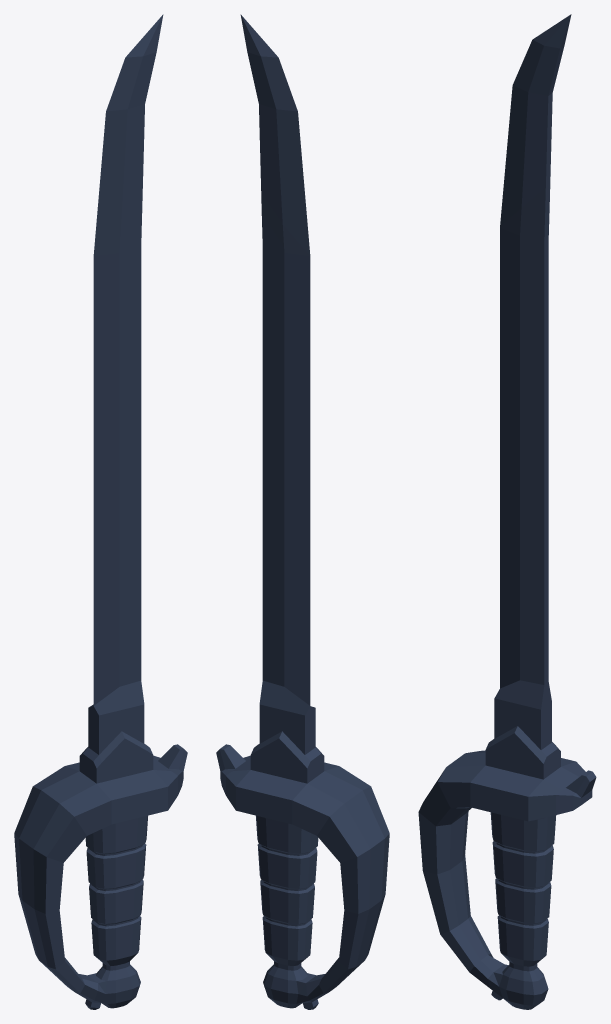
Rendered from Longsword.obj.
3 views of the same model, side by side, from view 1: azimuth 30°, elevation 25°; view 2: azimuth 150°, elevation 25°; view 3: azimuth 330°, elevation 25° (orthographic). The views are drawn at different scales.
Visible parts, largest first — view 1: LongSword_Cube.003; view 2: LongSword_Cube.003; view 3: LongSword_Cube.003.
Boxes of the visible parts, x1,y1,x2,y2 form: LongSword_Cube.003: (14,14,187,1009); LongSword_Cube.003: (216,14,389,1009); LongSword_Cube.003: (418,14,596,1009).
Bounding box in the file's own units: 4.28 × 25.32 × 2.2.
